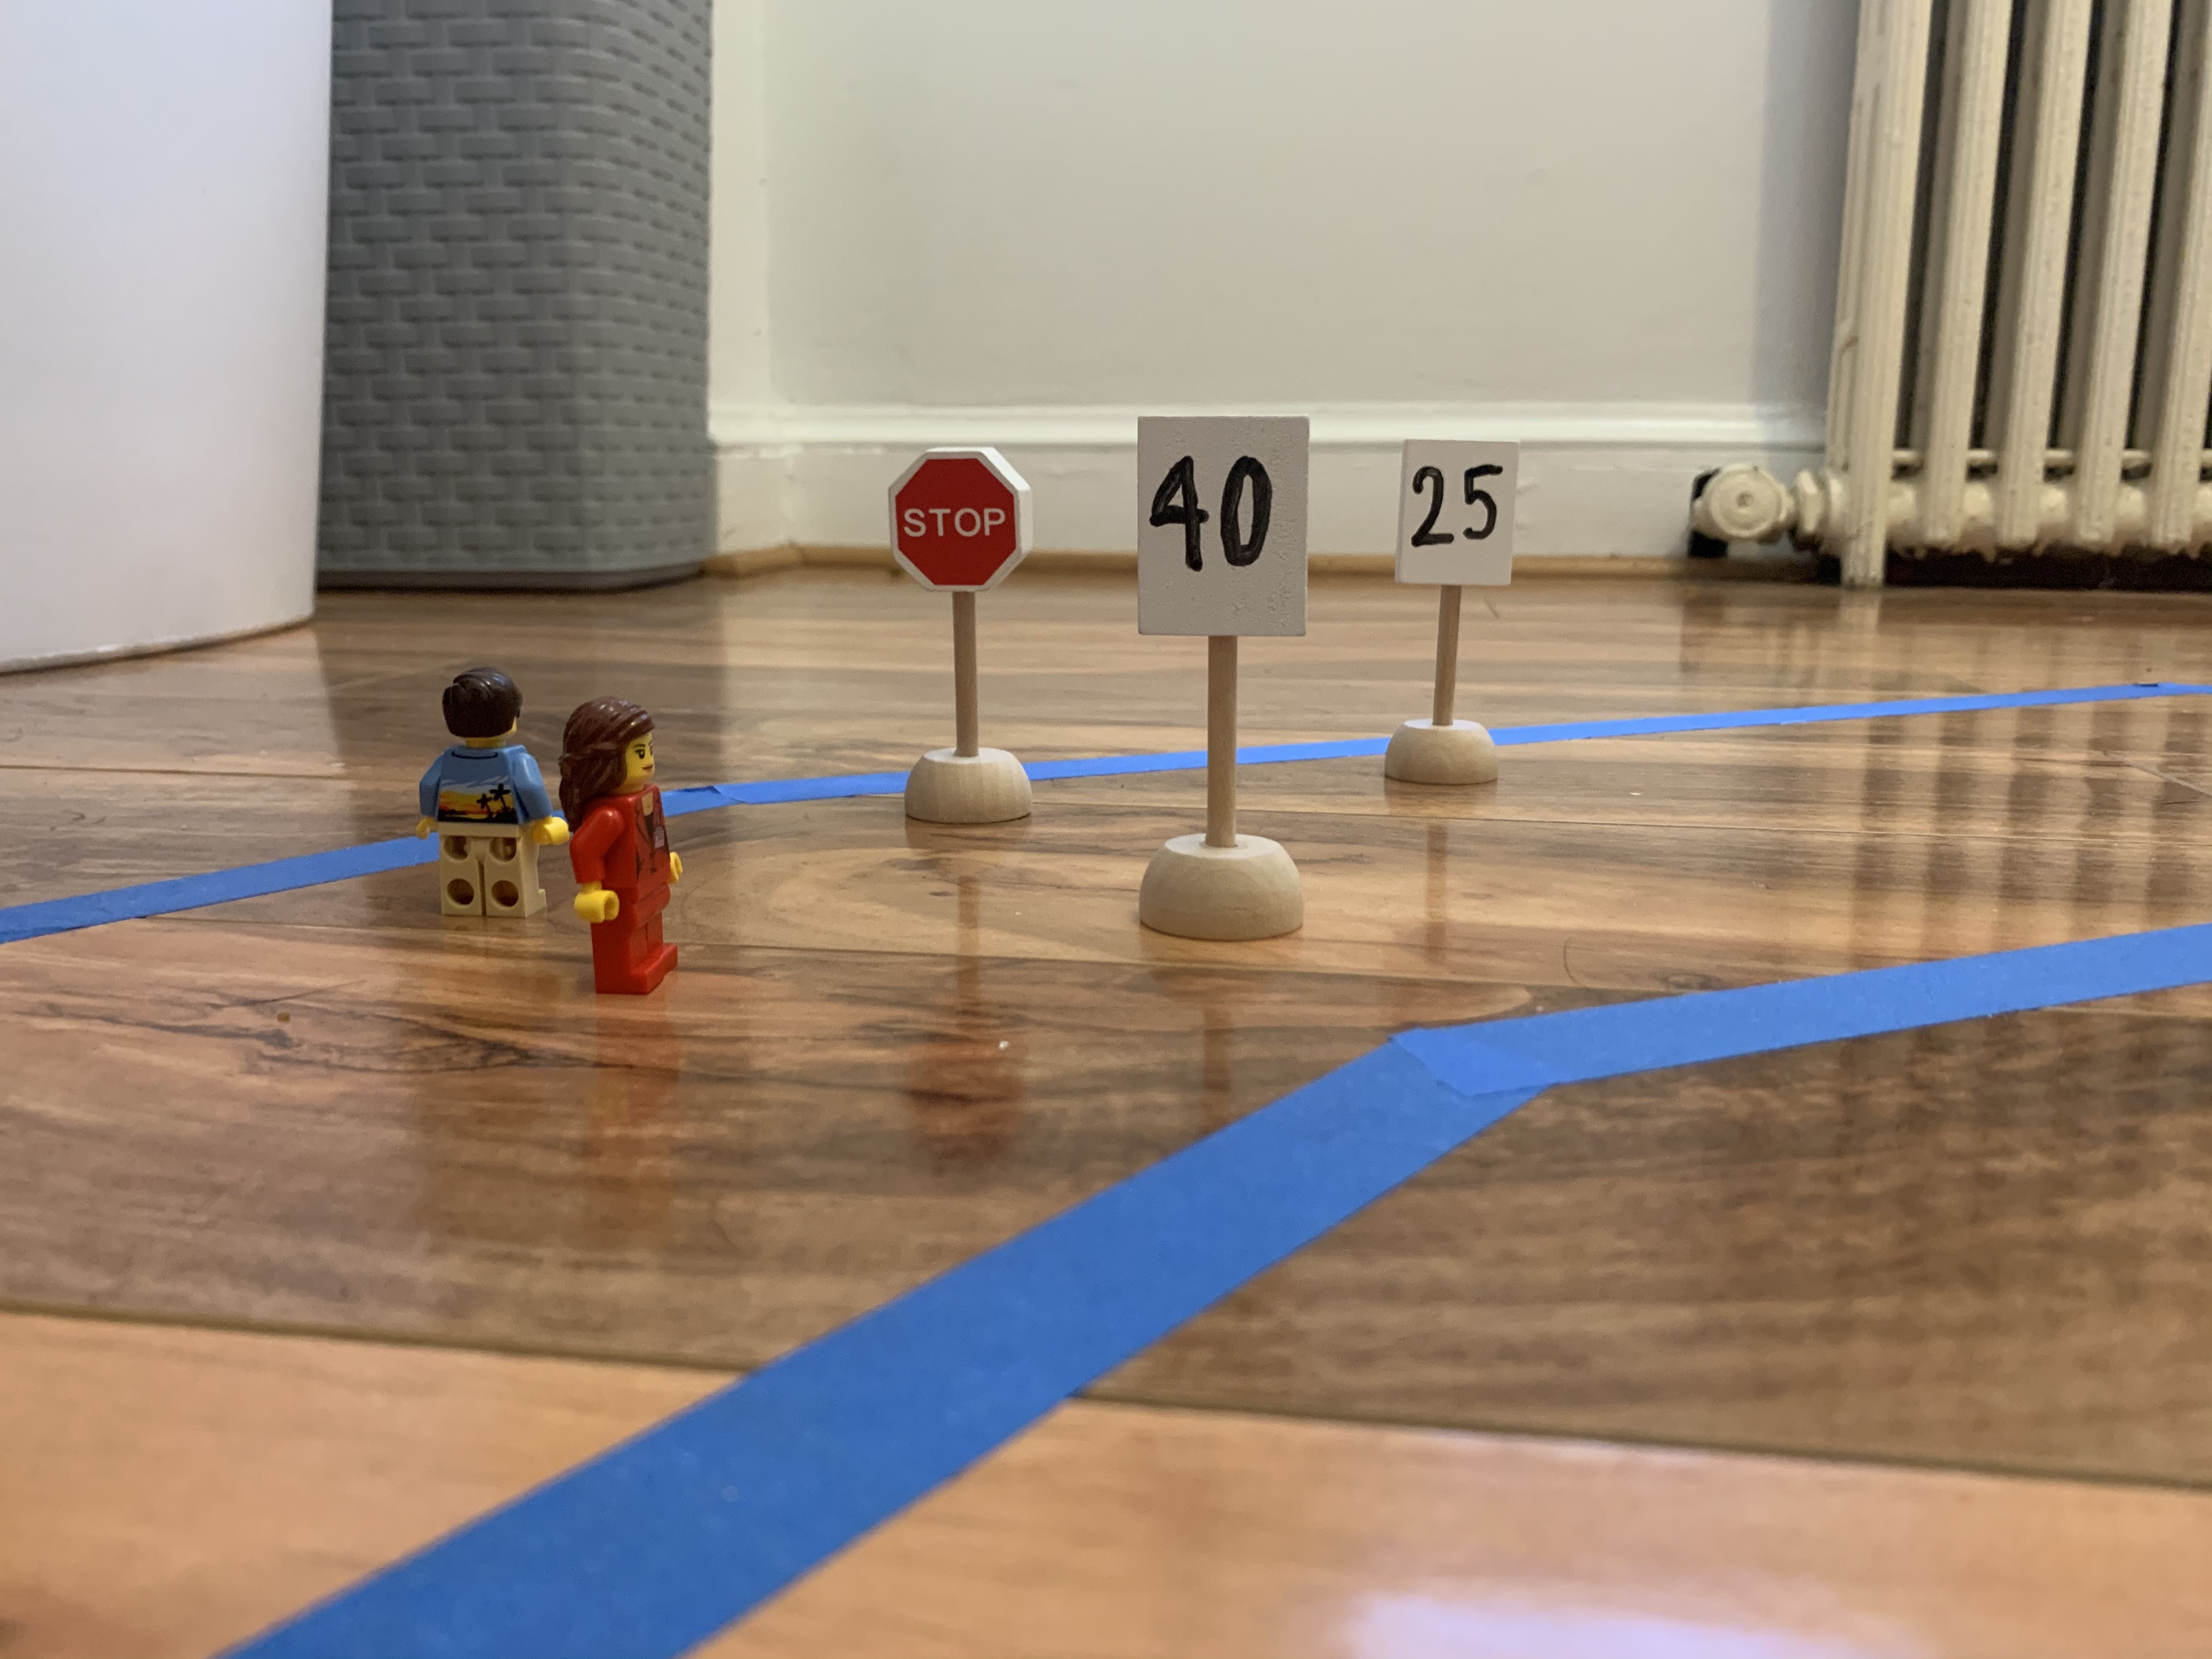Person: (555, 695, 698, 1007), (409, 658, 560, 922)
Speed Limit 25: (1395, 444, 1514, 585)
Speed Limit 40: (1139, 416, 1304, 629)
Stop Sign: (877, 430, 1033, 602)
